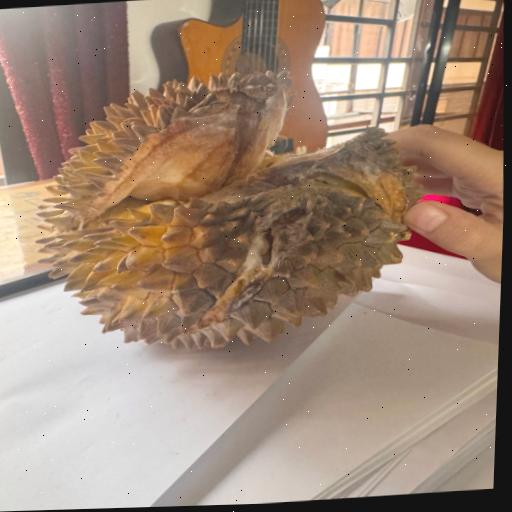rot: (19, 44, 445, 378)
